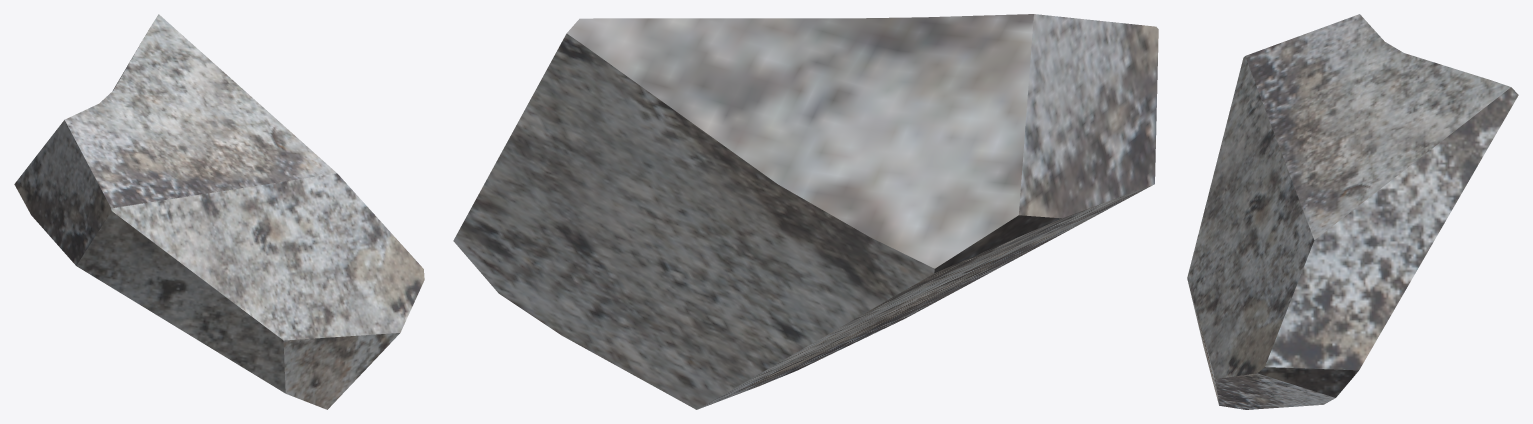
File: Asteroid_Large_001_02_003_03_018.fbx
The picture shows the model from 3 angles, left to right: view 1: azimuth 30°, elevation 25°; view 2: azimuth 150°, elevation 25°; view 3: azimuth 270°, elevation 25°; orthographic projection. The views are drawn at different scales.
Visible parts, largest first — view 1: Asteroid_Large_001_02_003_03_018; view 2: Asteroid_Large_001_02_003_03_018; view 3: Asteroid_Large_001_02_003_03_018.
Part boxes in pixels (left/top/right/bottom): Asteroid_Large_001_02_003_03_018: left=14, top=14, right=424, bottom=409; Asteroid_Large_001_02_003_03_018: left=453, top=14, right=1158, bottom=409; Asteroid_Large_001_02_003_03_018: left=1187, top=14, right=1518, bottom=409.
Bounding box in the file's own units: 8.76 × 7.37 × 7.24.
